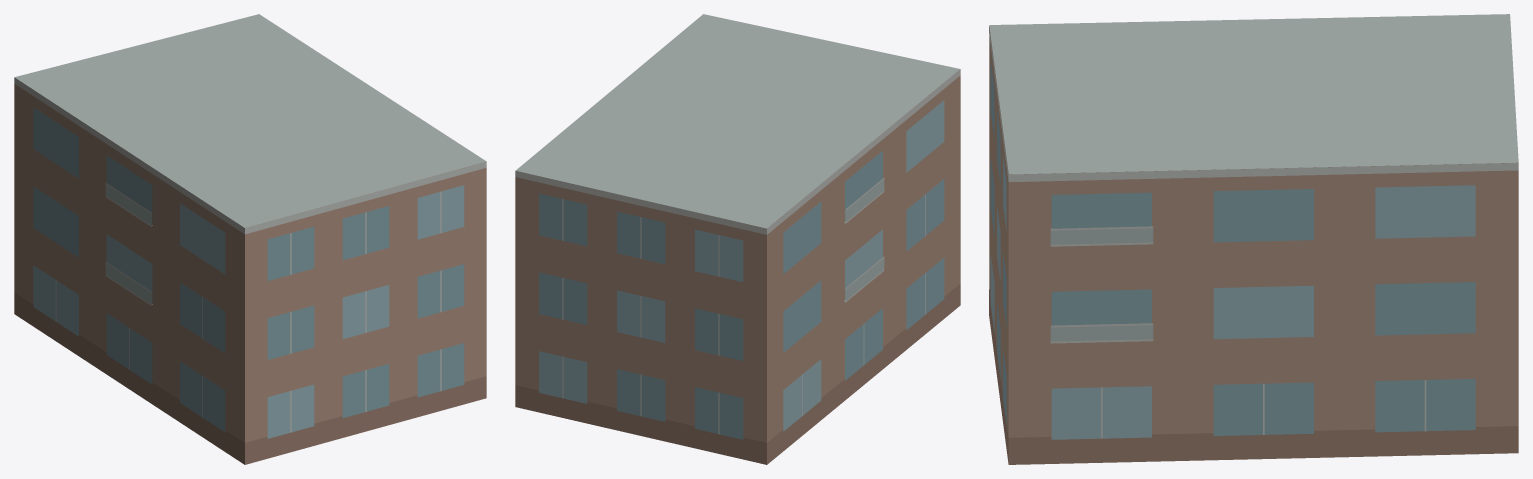
The model's file is survey-upis-32700197.glb.
3 renders of one model, left to right at view 1: azimuth 30°, elevation 25°; view 2: azimuth 150°, elevation 25°; view 3: azimuth 270°, elevation 25°, orthographic. The views are drawn at different scales.
Parts seen in each view (by area): view 1: survey-upis-32700197.tmp; view 2: survey-upis-32700197.tmp; view 3: survey-upis-32700197.tmp.
Part boxes in pixels (box(x1,y1,x2,y2)): survey-upis-32700197.tmp: box(14, 14, 486, 464); survey-upis-32700197.tmp: box(515, 14, 960, 464); survey-upis-32700197.tmp: box(989, 14, 1518, 464).
Bounding box in the file's own units: 10.85 × 9.15 × 15.13.
